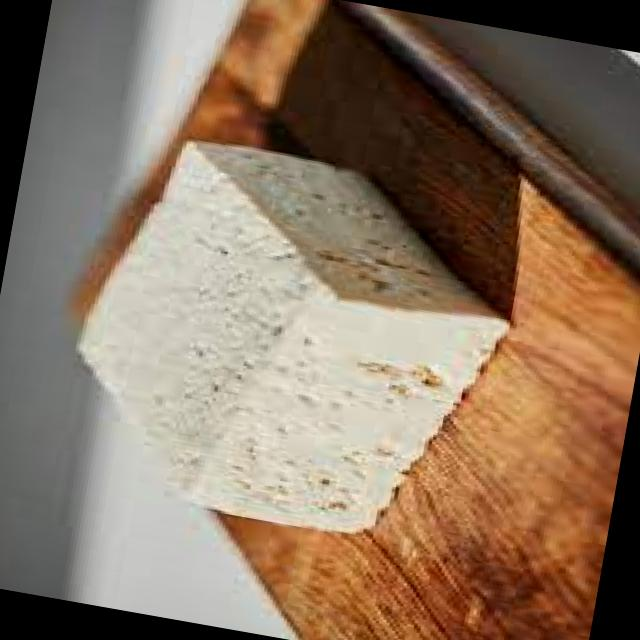tofu: (42, 113, 547, 561)
